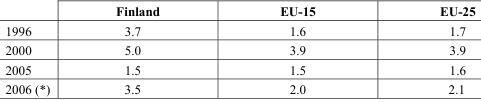table: (4, 3, 474, 96)
table column: (219, 3, 376, 96), (82, 3, 219, 96), (376, 3, 474, 96), (4, 3, 82, 96)
table column header: (4, 3, 474, 20)
table row: (4, 20, 474, 40), (4, 59, 474, 79), (4, 40, 474, 59), (4, 3, 474, 20), (4, 79, 474, 96)
